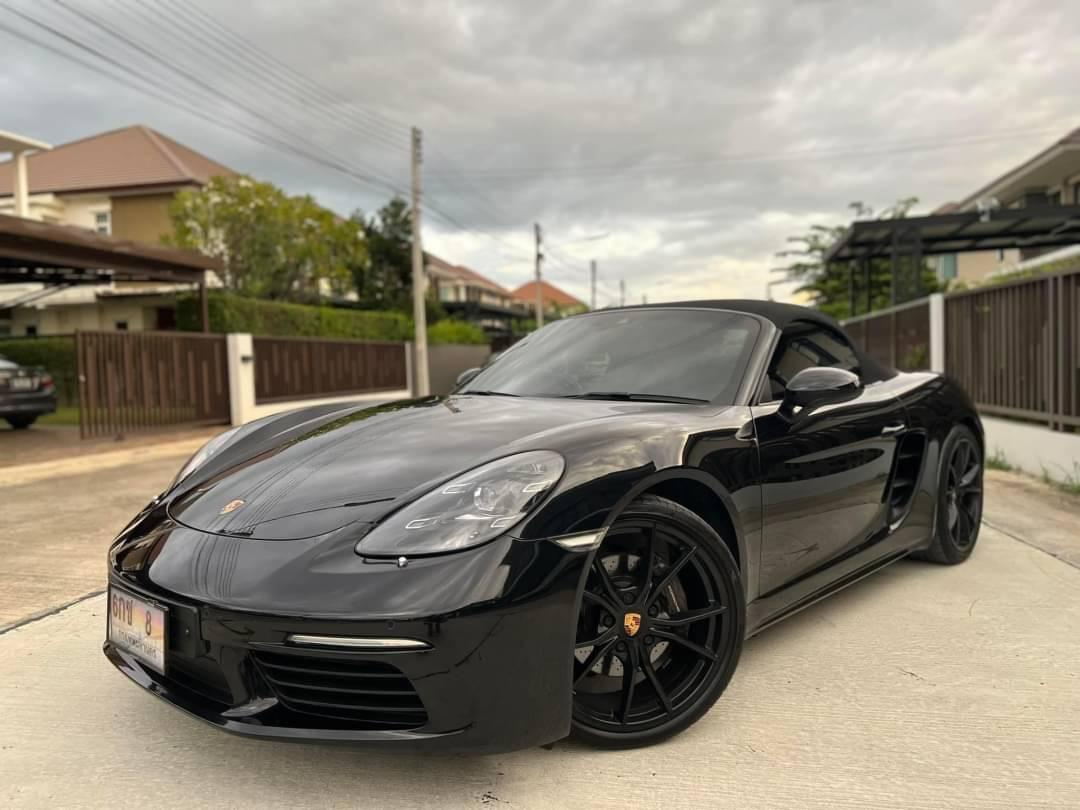license-plate: (95, 577, 180, 686)
